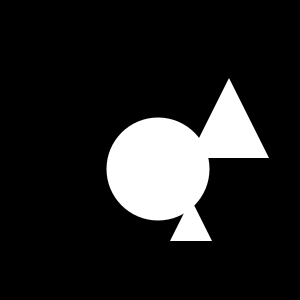rectangle: (106, 118, 209, 220)
triangle: (189, 78, 269, 158), (170, 199, 212, 241)
